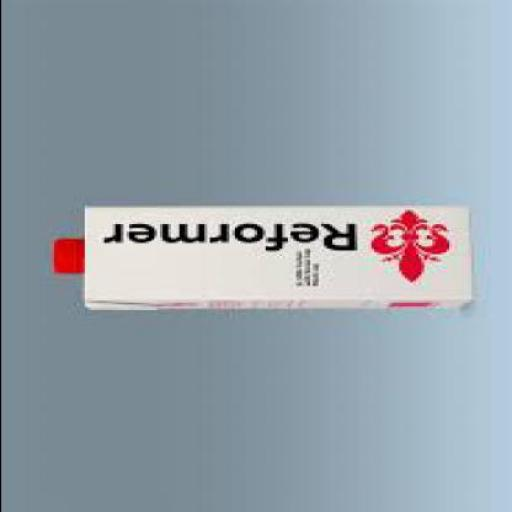cardboard: (78, 208, 473, 314)
paper: (48, 241, 78, 277)
